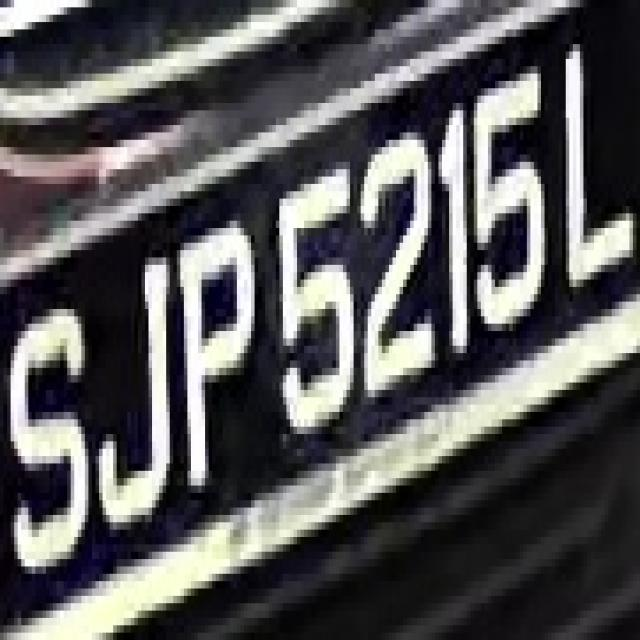1: (438, 81, 484, 405)
2: (361, 118, 438, 426)
5: (272, 155, 364, 456), (470, 66, 552, 346)
J: (88, 236, 177, 566)
L: (555, 8, 640, 316)
P: (170, 206, 262, 522)
S: (10, 287, 96, 588)
